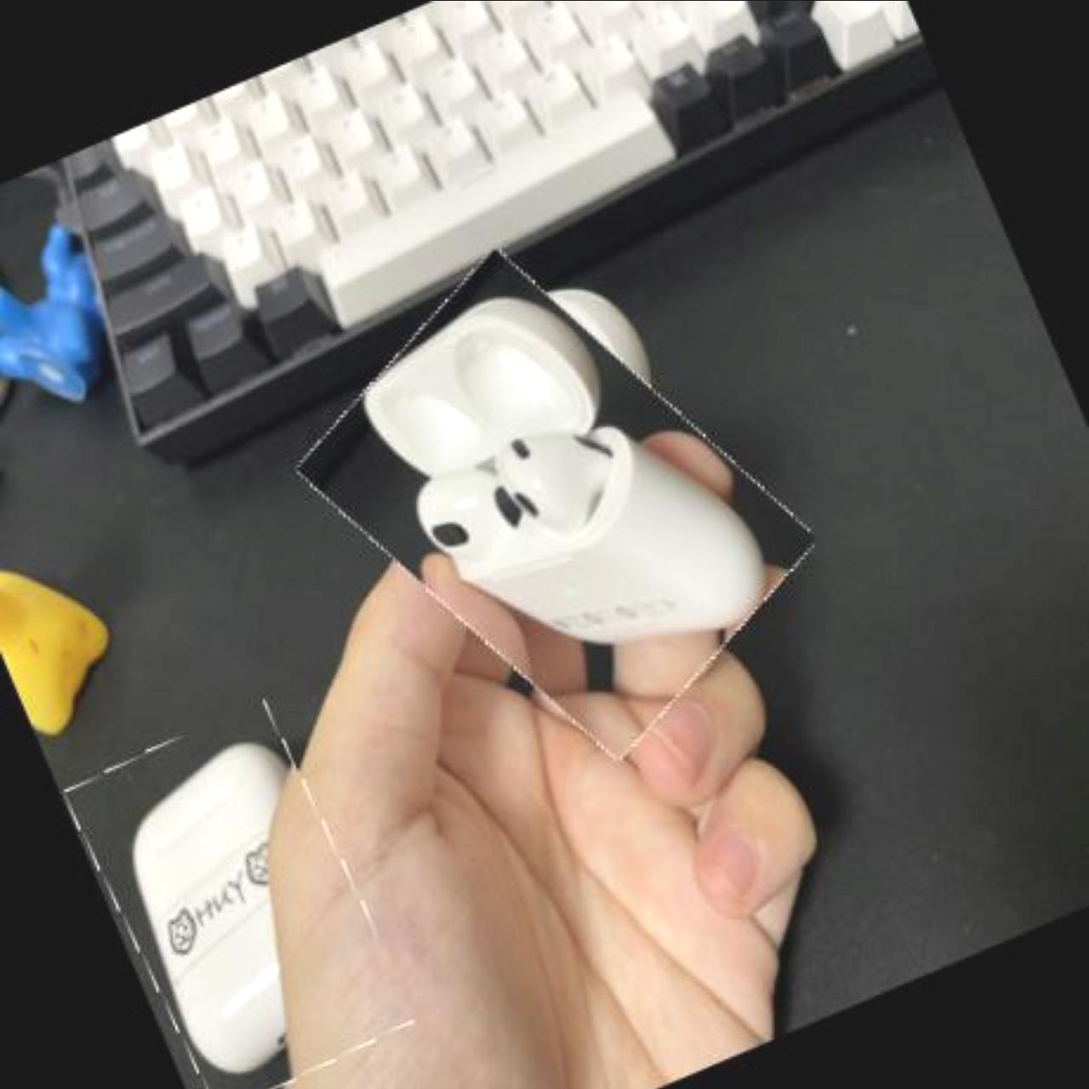AirPods: (288, 212, 820, 797), (62, 694, 416, 1089)
